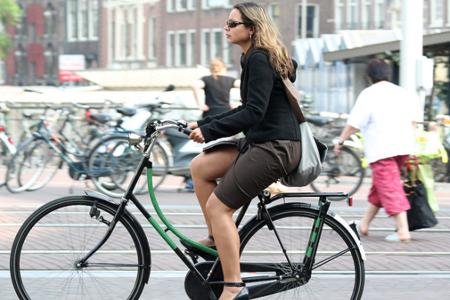person: (185, 2, 305, 300)
